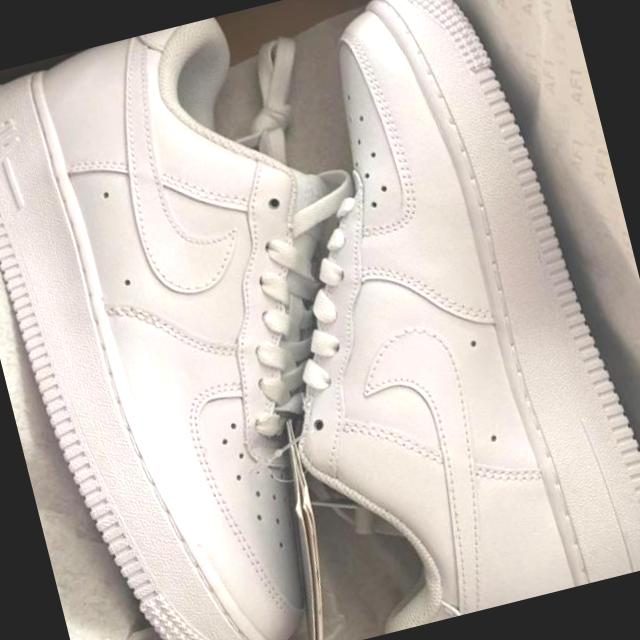nike_original_airforce: (0, 0, 451, 640), (201, 0, 640, 640)
